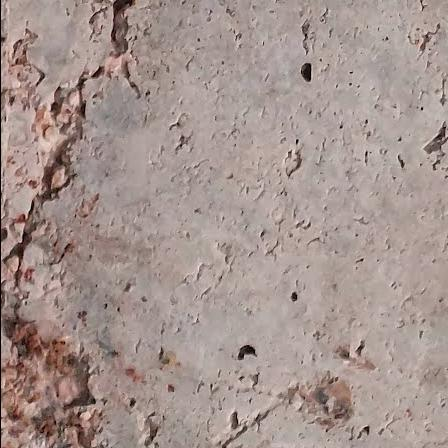crack: (0, 50, 107, 321), (103, 0, 135, 61)
spalling: (1, 318, 107, 447), (266, 355, 366, 444), (1, 24, 46, 128)
